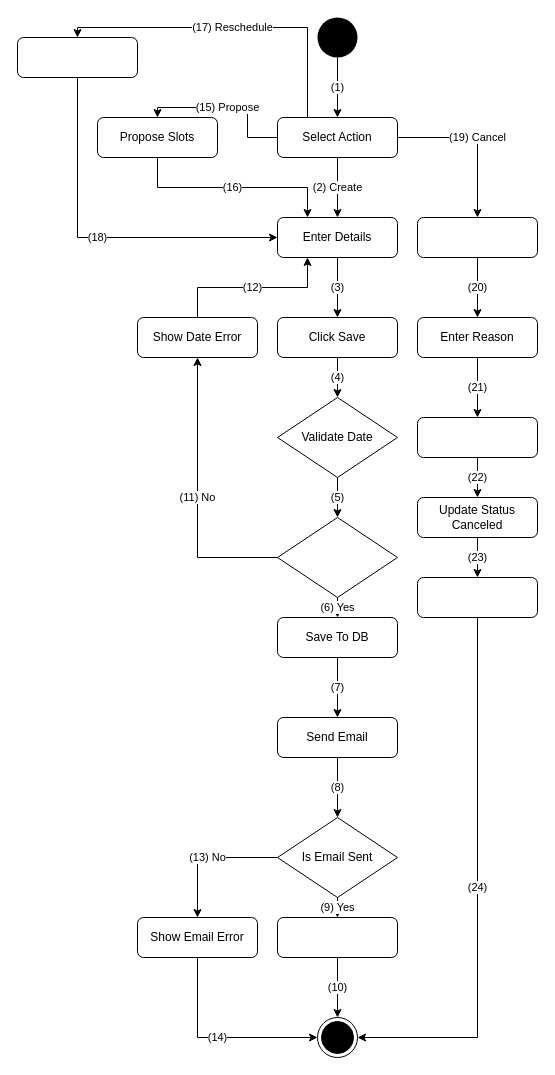
The diagram is 555 pixels wide and 1075 high, and some of its shapes have lost their labels. Here are the shapes that lost their labels. From the top down, the centre of each, then its label:
At (x=77, y=57): "Click Reschedule".
At (x=477, y=237): "Click Cancel".
At (x=477, y=437): "Confirm Cancel".
At (x=337, y=557): "Is Valid".
At (x=477, y=597): "Send Cancel Email".
At (x=337, y=937): "Show Success".
